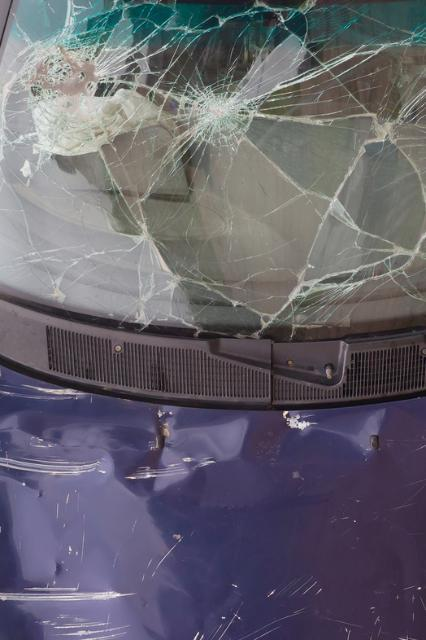Bonnet: (6, 376, 425, 640)
Windshield: (9, 0, 426, 343)
